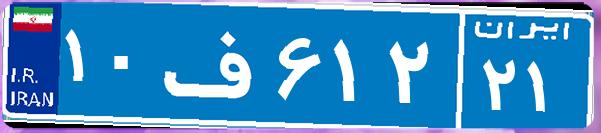0: (110, 28, 158, 105)
1: (330, 28, 385, 110), (57, 26, 110, 107), (525, 38, 570, 115)
2: (385, 28, 445, 110), (475, 38, 525, 113)
6: (273, 28, 330, 110)
ف: (158, 15, 273, 115)
